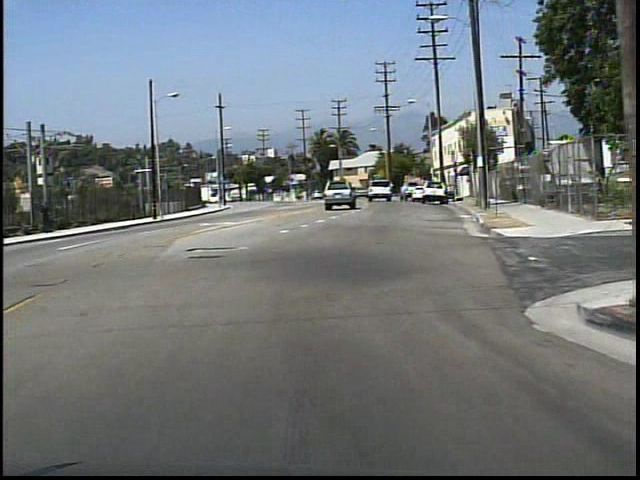person: (41, 200, 58, 237)
